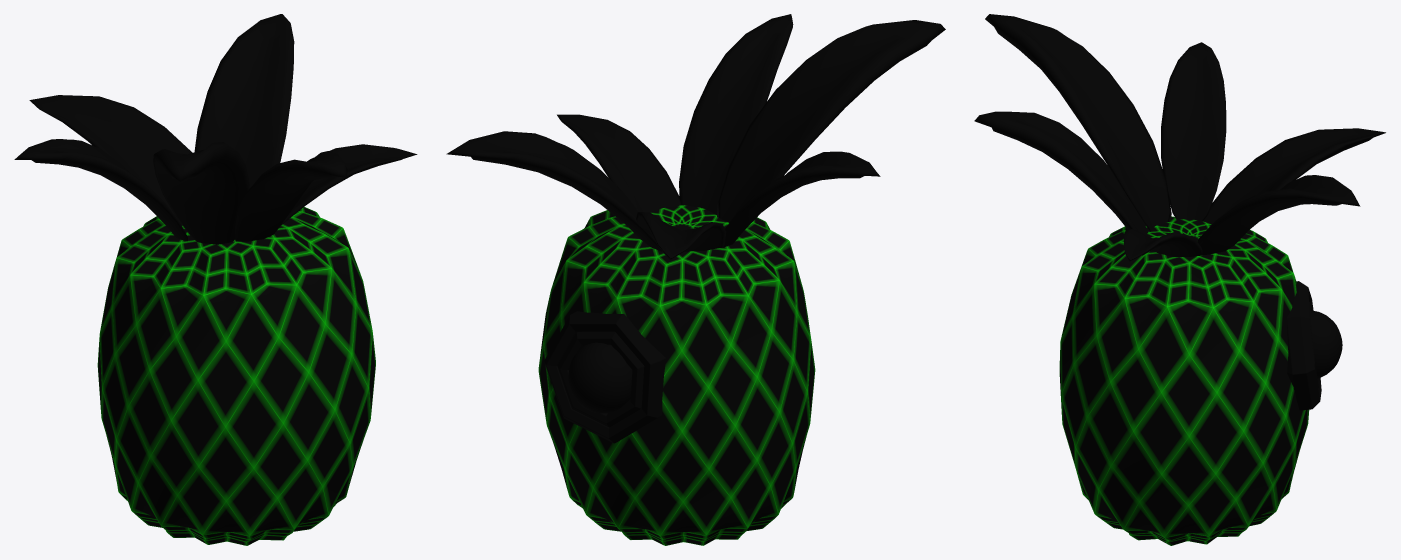
Rendered from spineapple.fbx.
The picture shows the model from 3 angles, left to right: view 1: azimuth 30°, elevation 25°; view 2: azimuth 150°, elevation 25°; view 3: azimuth 270°, elevation 25°; orthographic projection. The views are drawn at different scales.
Parts seen in each view (by area): view 1: pCylinder2; view 2: pCylinder2; view 3: pCylinder2.
Boxes of the visible parts, left/top/right/bottom form: pCylinder2: left=14, top=14, right=417, bottom=545; pCylinder2: left=446, top=14, right=945, bottom=545; pCylinder2: left=974, top=14, right=1385, bottom=545.
Bounding box in the file's own units: 77.93 × 93.36 × 81.45.
